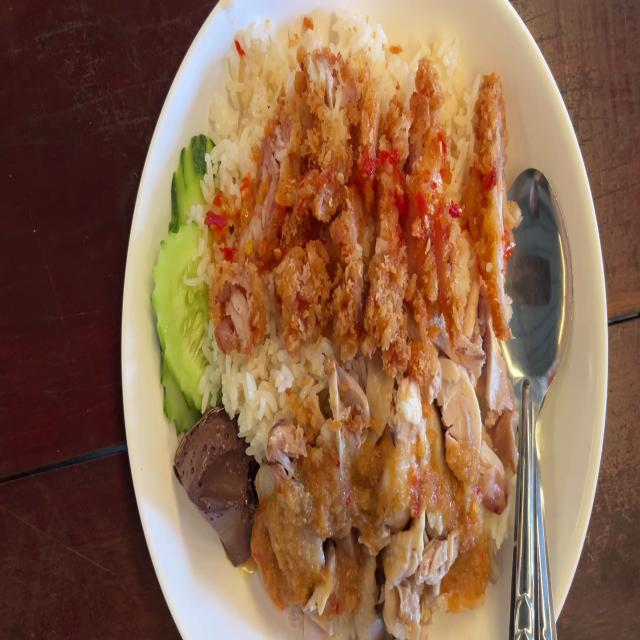boiled_chicken: (246, 354, 516, 614)
boiled_chicken_blood_jelly: (172, 409, 254, 568)
chicken_rice: (157, 12, 529, 640)
cucumber: (160, 134, 220, 414)
fried_chicken: (201, 50, 507, 338)
